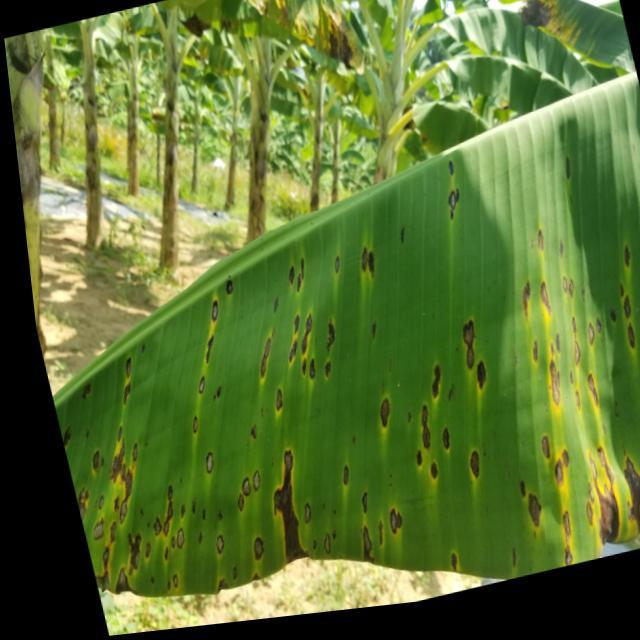Early_rust: (42, 98, 634, 580), (256, 0, 379, 84), (488, 0, 598, 64)
